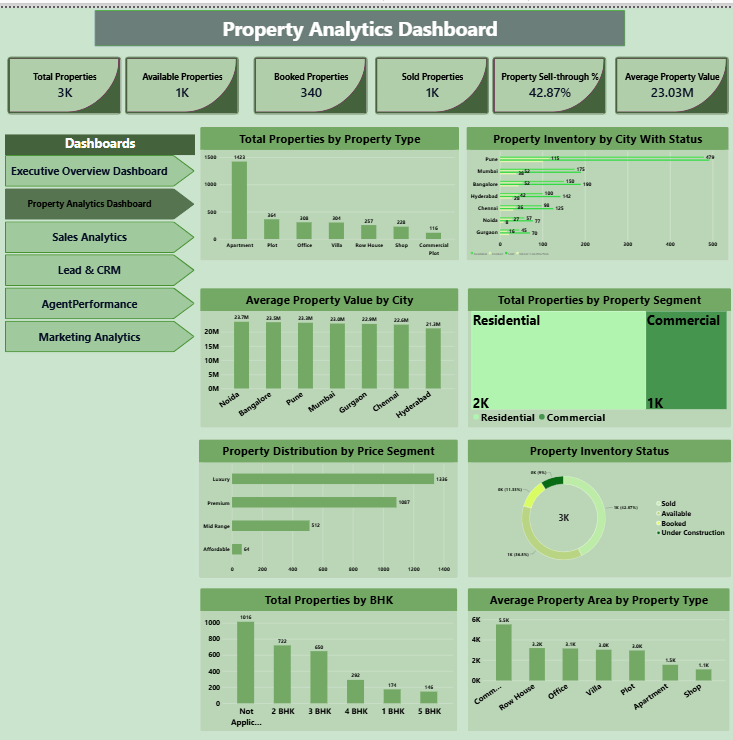

The page's visual inventory and layout, read from the dashboard file:
{"tool":"powerbi","page":{"name":"Property Analytics Dashboard","canvas":[3000,3000],"ordinal":1},"visuals":[{"type":"shape","box":[377,0,2180,165],"z":0},{"type":"cardVisual","fields":{"Data":["_PropertyMeasures.Available Properties"]},"box":[511.3,198.7,463,234],"z":0,"group":"g2"},{"type":"cardVisual","fields":{"Data":["_PropertyMeasures.Total Properties"]},"box":[30.6,200.6,463,234],"z":0,"group":"g1"},{"type":"group","id":"g1","title":"Group 1","box":[30.6,200.6,463.7,234.4],"z":0,"group":"g8"},{"type":"cardVisual","fields":{"Data":["_PropertyMeasures.Booked Properties"]},"box":[1034.3,200.6,463,234],"z":0,"group":"g3"},{"type":"cardVisual","fields":{"Data":["_PropertyMeasures.Sold Properties"]},"box":[1528.6,200.6,463.7,234.4],"z":0,"group":"g5"},{"type":"cardVisual","fields":{"Data":["_PropertyMeasures.Property Sell-through %"]},"box":[2007.5,200.6,463,234],"z":0,"group":"g7"},{"type":"cardVisual","fields":{"Data":["_PropertyMeasures.Average Property Value"]},"box":[2506.8,200.6,463,234],"z":0,"group":"g6"},{"type":"group","id":"g2","title":"Group 1","box":[511.3,198.7,463,234],"z":1000,"group":"g8"},{"type":"donutChart","title":"Property Inventory Status","fields":{"Category":["Dim_Property.Property_Status"],"Y":["_PropertyMeasures.Total Properties"]},"box":[1905.6,1757.8,1075,565],"z":1000},{"type":"group","id":"g3","title":"Group 1","box":[1034.3,200.6,463.7,234.4],"z":2000,"group":"g8"},{"type":"group","id":"g4","title":"Group 2","box":[30.6,198.7,2939.9,236.3],"z":3000},{"type":"group","id":"g5","title":"Group 1","box":[1528.6,200.6,463.7,234.4],"z":3000,"group":"g8"},{"type":"group","id":"g6","title":"Group 1","box":[2506.8,200.6,463.7,234.4],"z":4000,"group":"g8"},{"type":"clusteredColumnChart","title":"Total Properties by Property Type","fields":{"Category":["Dim_Property.Property_Type"],"Y":["_PropertyMeasures.Total Properties"]},"box":[816.7,483.3,1056.7,546.7],"z":4000},{"type":"group","id":"g7","title":"Group 1","box":[2007.5,200.6,463,234],"z":5000,"group":"g8"},{"type":"clusteredBarChart","title":"Property Inventory by City With Status","fields":{"Category":["Dim_Property.City"],"Series":["Dim_Property.Property_Status"],"Y":["_PropertyMeasures.Total Properties"]},"box":[1900,483.3,1070,546.7],"z":5000},{"type":"clusteredBarChart","title":" Property Distribution by Price Segment","fields":{"Category":["Dim_Property.Price_Category"],"Y":["_PropertyMeasures.Total Properties"]},"box":[810.1,1757.8,1056.7,566.7],"z":6000},{"type":"columnChart","fields":{"Category":["Dim_Property.City"],"Y":["_PropertyMeasures.Average Property Value"]},"box":[815.2,1141.3,1054.7,570.7],"z":7000},{"type":"columnChart","fields":{"Category":["Dim_Property.BHK"],"Y":["_PropertyMeasures.Total Properties"]},"box":[815.2,2364.1,1049.6,585.9],"z":8000},{"type":"group","id":"g8","title":"Group 3","box":[30.6,198.7,2939.9,236.3],"z":8007,"group":"g4"},{"type":"columnChart","title":"Average Property Area by Property Type","fields":{"Category":["Dim_Property.Property_Type"],"Y":["_PropertyMeasures.Average Property Area"]},"box":[1905.6,2364.1,1070,585.9],"z":9000},{"type":"treemap","title":"Total Properties by Property Segment ","fields":{"Group":["Dim_Property.Property_Segment "],"Values":["_PropertyMeasures.Total Properties"]},"box":[1905.6,1141.3,1075.1,570.7],"z":10000},{"type":"pageNavigator","title":"Dashboards","box":[20.1,512.7,774.1,889.7],"z":10001}]}

Visuals, with their boxes in screenshot pixels (x1, y1, x2, y2), scaled from the page's 3000x3000 canvas onto the 733x740 screenshot:
shape: x1=92 y1=0 x2=625 y2=41
cardVisual - _PropertyMeasures.Available Properties: x1=125 y1=49 x2=238 y2=107
cardVisual - _PropertyMeasures.Total Properties: x1=7 y1=49 x2=121 y2=107
"Group 1" group: x1=7 y1=49 x2=121 y2=107
cardVisual - _PropertyMeasures.Booked Properties: x1=253 y1=49 x2=366 y2=107
cardVisual - _PropertyMeasures.Sold Properties: x1=373 y1=49 x2=487 y2=107
cardVisual - _PropertyMeasures.Property Sell-through %: x1=490 y1=49 x2=604 y2=107
cardVisual - _PropertyMeasures.Average Property Value: x1=612 y1=49 x2=726 y2=107
"Group 1" group: x1=125 y1=49 x2=238 y2=107
"Property Inventory Status" donutChart: x1=466 y1=434 x2=728 y2=573
"Group 1" group: x1=253 y1=49 x2=366 y2=107
"Group 2" group: x1=7 y1=49 x2=726 y2=107
"Group 1" group: x1=373 y1=49 x2=487 y2=107
"Group 1" group: x1=612 y1=49 x2=726 y2=107
"Total Properties by Property Type" clusteredColumnChart: x1=200 y1=119 x2=458 y2=254
"Group 1" group: x1=490 y1=49 x2=604 y2=107
"Property Inventory by City With Status" clusteredBarChart: x1=464 y1=119 x2=726 y2=254
" Property Distribution by Price Segment" clusteredBarChart: x1=198 y1=434 x2=456 y2=573
columnChart - Dim_Property.City x _PropertyMeasures.Average Property Value: x1=199 y1=282 x2=457 y2=422
columnChart - Dim_Property.BHK x _PropertyMeasures.Total Properties: x1=199 y1=583 x2=456 y2=728
"Group 3" group: x1=7 y1=49 x2=726 y2=107
"Average Property Area by Property Type" columnChart: x1=466 y1=583 x2=727 y2=728
"Total Properties by Property Segment " treemap: x1=466 y1=282 x2=728 y2=422
"Dashboards" pageNavigator: x1=5 y1=126 x2=194 y2=346
